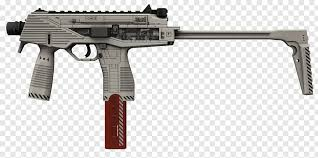gun: (4, 3, 314, 151)
